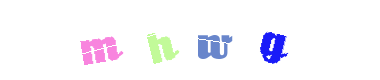G: (232, 0, 312, 80)
H: (150, 0, 230, 80)
M: (70, 0, 150, 80)
W: (175, 0, 255, 80)
